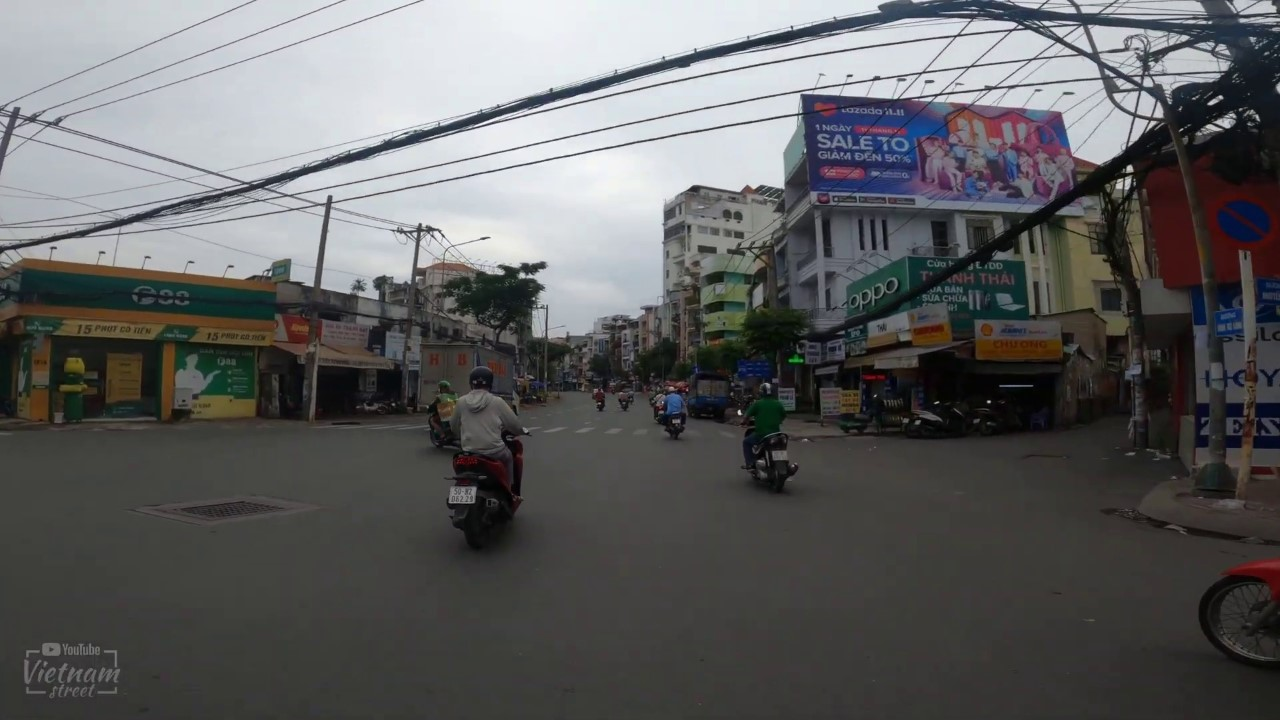cam_do_xe: (1209, 193, 1279, 251)
